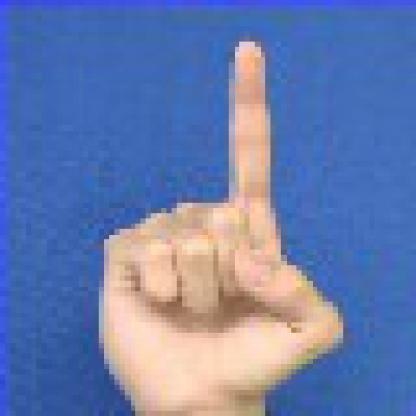one: (93, 24, 348, 415)
